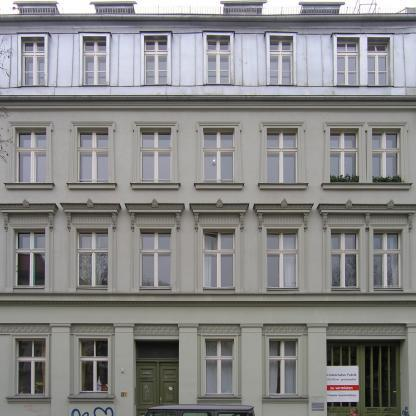Building Outline: (0, 0, 416, 416)
Cornice: (316, 198, 416, 233), (59, 197, 122, 233), (252, 197, 315, 233), (124, 198, 186, 234), (188, 197, 250, 233), (0, 198, 59, 233)
Door: (326, 339, 408, 416), (133, 360, 179, 416)
Floor: (0, 212, 416, 311), (0, 107, 416, 201)
Floor Slab: (0, 96, 416, 107), (0, 312, 416, 322), (0, 201, 416, 211)
Ground Floor: (0, 323, 416, 416)
Molding: (0, 95, 416, 109), (0, 323, 416, 335), (0, 300, 416, 307)
Pillar: (239, 324, 264, 416), (49, 323, 72, 416), (306, 323, 329, 416), (113, 323, 135, 416), (177, 323, 199, 416), (406, 323, 416, 416)
Roof: (0, 13, 416, 95)
Sill: (320, 182, 414, 190), (3, 182, 56, 191), (257, 182, 310, 191), (66, 395, 116, 404), (193, 182, 246, 190), (129, 182, 181, 190), (65, 182, 117, 190), (5, 396, 52, 404), (262, 396, 308, 404), (197, 396, 242, 404)
Top Floor: (0, 15, 416, 96)
Window: (203, 229, 235, 288), (77, 228, 108, 288), (140, 228, 171, 288), (14, 229, 45, 288), (267, 229, 298, 288), (15, 338, 46, 396), (77, 127, 109, 183), (373, 229, 403, 288), (331, 229, 361, 288), (203, 128, 235, 183), (140, 127, 171, 183), (269, 339, 299, 396), (78, 338, 108, 395), (15, 128, 46, 183), (267, 128, 298, 182), (205, 339, 234, 396), (372, 128, 402, 183), (330, 128, 359, 183), (21, 37, 45, 86), (207, 35, 231, 84), (144, 35, 167, 85), (270, 35, 293, 85), (83, 36, 106, 85), (368, 37, 391, 85), (337, 37, 360, 85), (133, 340, 179, 360)
